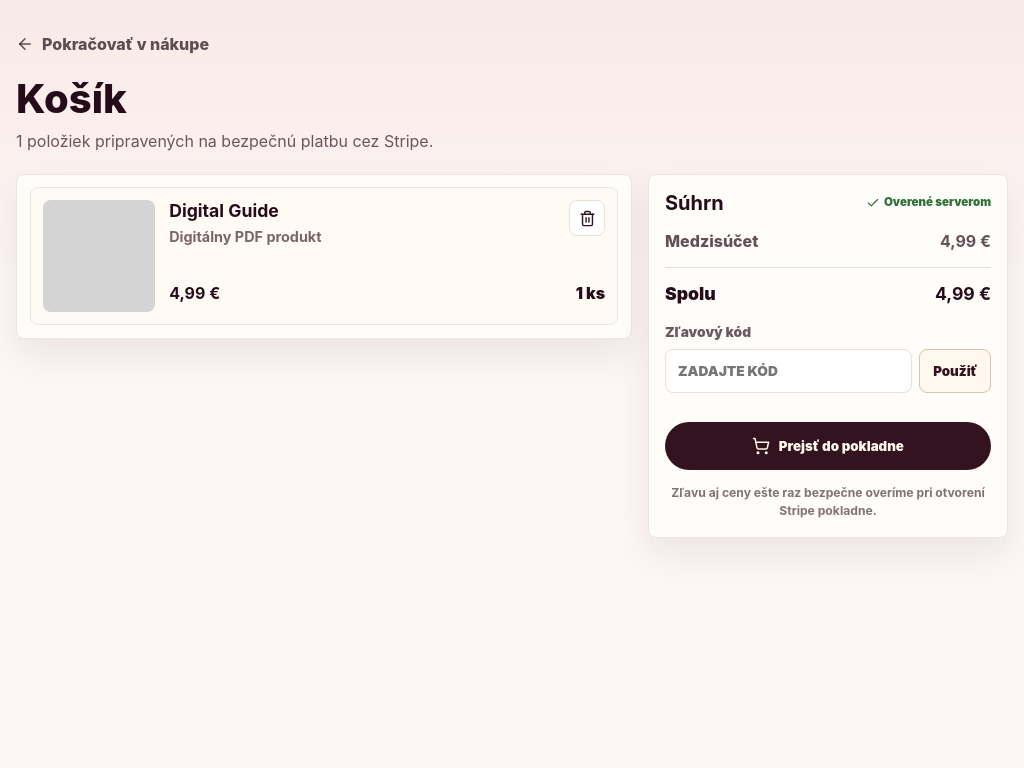
Scenario: CartPage › shows authoritative savings, persists Apply, and clears only on explicit Remove
Type "cart10" into the field labelled "Zľavový kód". click: (789, 371)
box: [665,349,912,393]
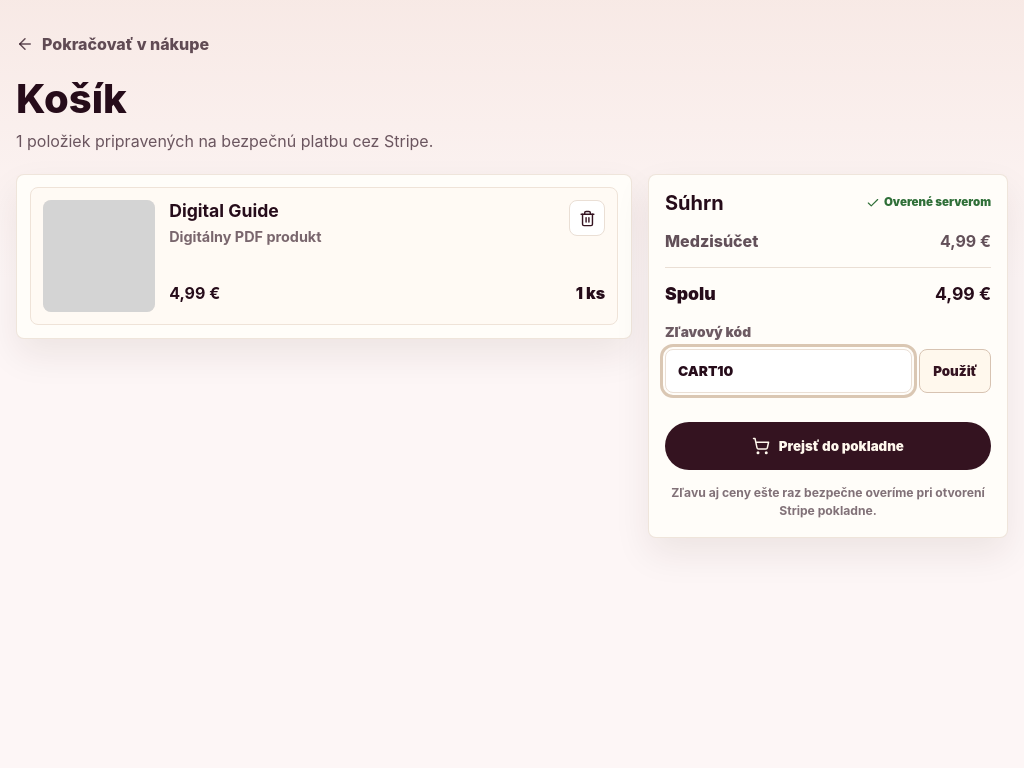
Click the button "Použiť". click: (955, 371)
box: [919,349,991,393]
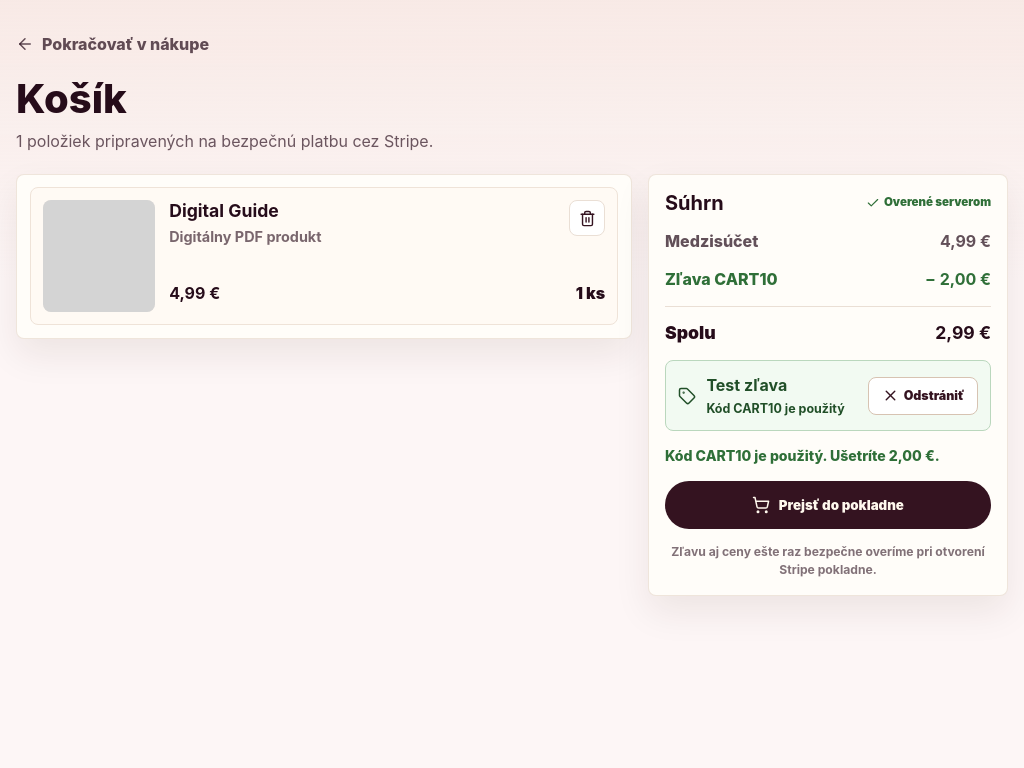
Result: the text "Kód CART10 je použitý" is shown at [706,400,858,418]
Result: the text "− 2,00 €" is shown at [925,267,991,291]
Result: the text "2,99 €" is shown at [935,320,991,346]
Click the button with aria-label "odstrániť kód CART10". click: (923, 396)
box: [868,377,978,415]
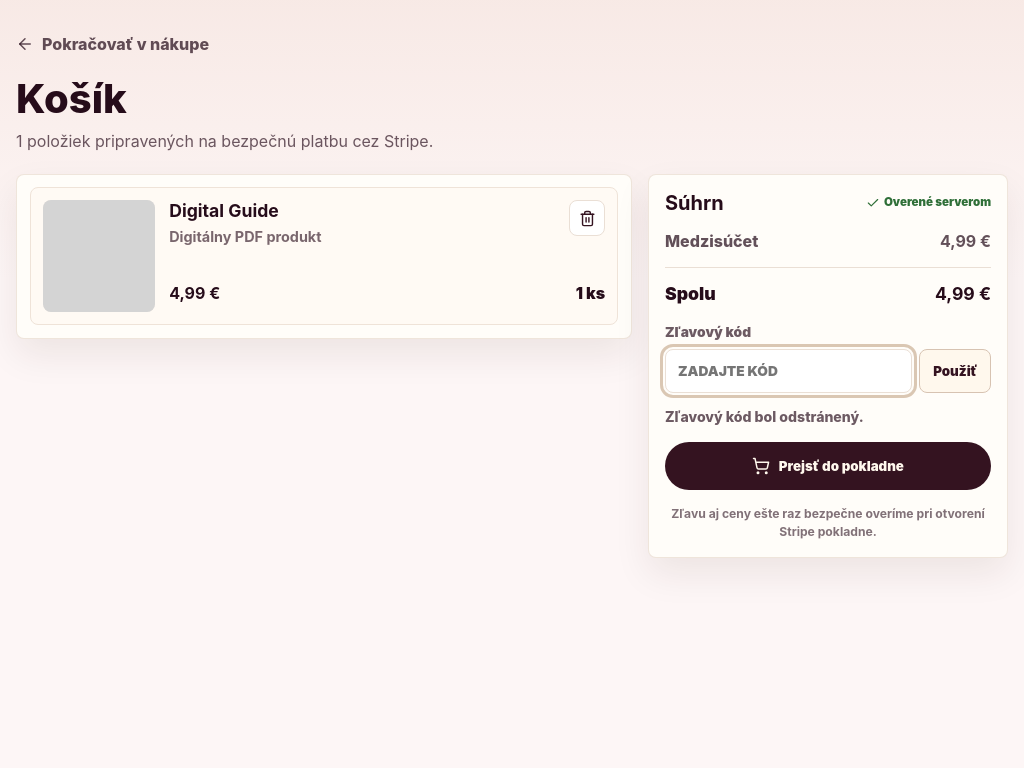
Result: the text "Zľavový kód bol odstránený." is shown at [665,408,864,425]
